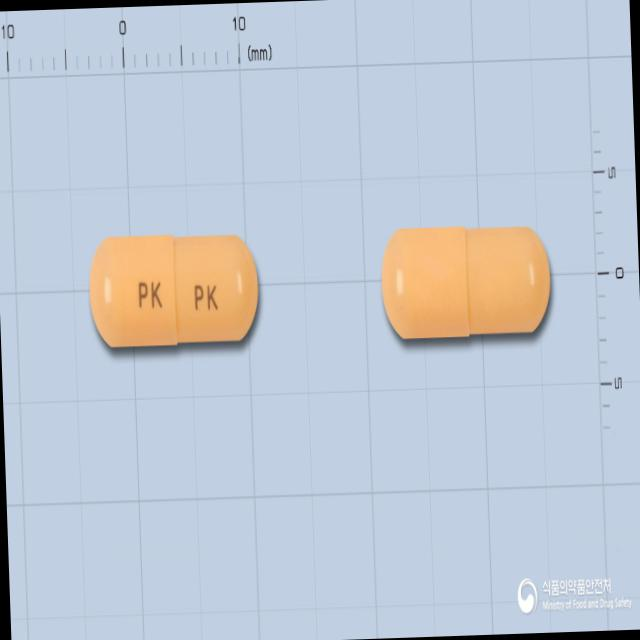Cefac Cap: (85, 225, 264, 352)
